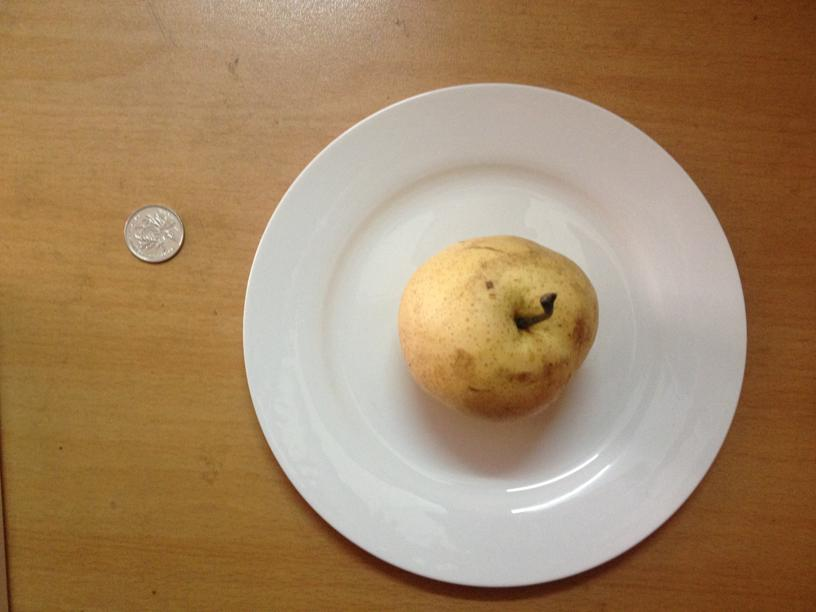coin: (122, 204, 184, 265)
pear: (397, 232, 600, 426)
